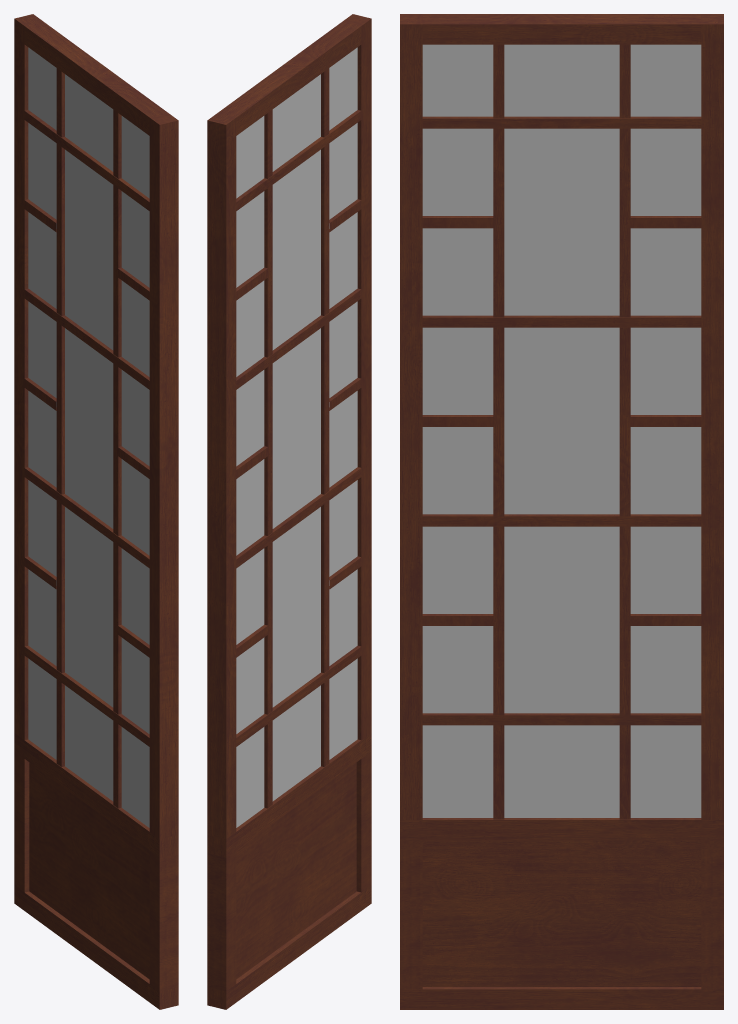
Rendered from SM_InnerDoor01O.fbx.
The picture shows the model from 3 angles, left to right: view 1: azimuth 30°, elevation 25°; view 2: azimuth 150°, elevation 25°; view 3: azimuth 270°, elevation 25°; orthographic projection. The views are drawn at different scales.
Parts seen in each view (by area): view 1: SM_InnerDoor01O; view 2: SM_InnerDoor01O; view 3: SM_InnerDoor01O.
Part boxes in pixels (box(x1,y1,x2,y2)): SM_InnerDoor01O: box(14, 14, 178, 1009); SM_InnerDoor01O: box(207, 14, 371, 1009); SM_InnerDoor01O: box(400, 14, 723, 1009).
Size of the model in its own units: 4.64 by 62.13 by 209.
